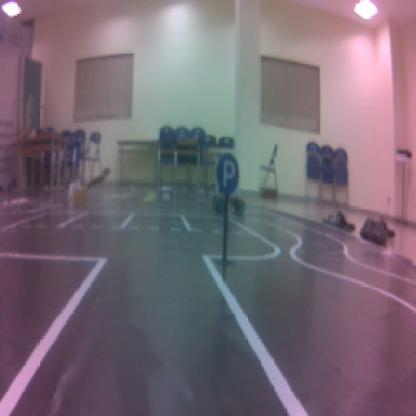chair: (217, 155, 239, 194)
